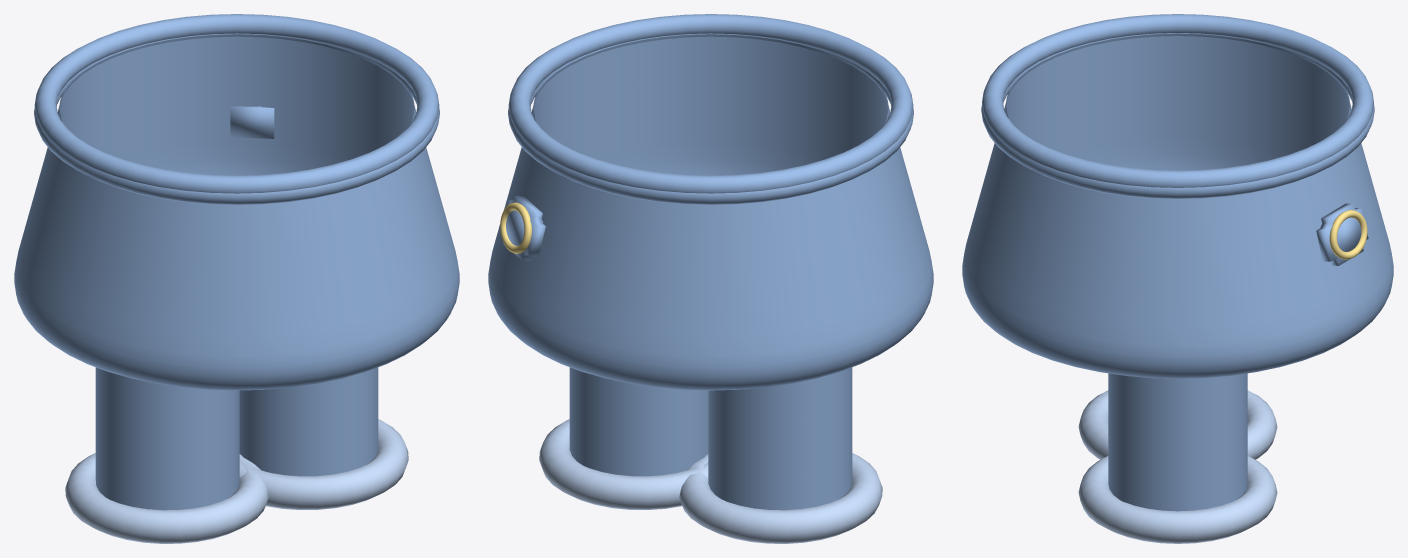
File: overalls.glb
3 renders of one model, left to right at view 1: azimuth 30°, elevation 25°; view 2: azimuth 150°, elevation 25°; view 3: azimuth 270°, elevation 25°, orthographic. The views are drawn at different scales.
Parts seen in each view (by area): view 1: BodyGirl, BodyBoy, LegL, LegR; view 2: BodyGirl, BodyBoy, LegL, LegR; view 3: BodyGirl, BodyBoy, LegR, LegL.
Boxes of the visible parts, bbox=[...] form: BodyGirl: bbox=[14, 14, 459, 390]; BodyBoy: bbox=[34, 33, 439, 204]; LegL: bbox=[65, 367, 268, 543]; LegR: bbox=[239, 367, 408, 509]; BodyGirl: bbox=[488, 14, 933, 390]; BodyBoy: bbox=[508, 33, 913, 204]; LegL: bbox=[679, 367, 882, 543]; LegR: bbox=[539, 367, 708, 509]; BodyGirl: bbox=[962, 14, 1393, 378]; BodyBoy: bbox=[981, 33, 1374, 198]; LegR: bbox=[1078, 373, 1277, 543]; LegL: bbox=[1078, 390, 1277, 459].
Size of the model in its own units: 0.4451 by 0.4326 by 0.4451.
